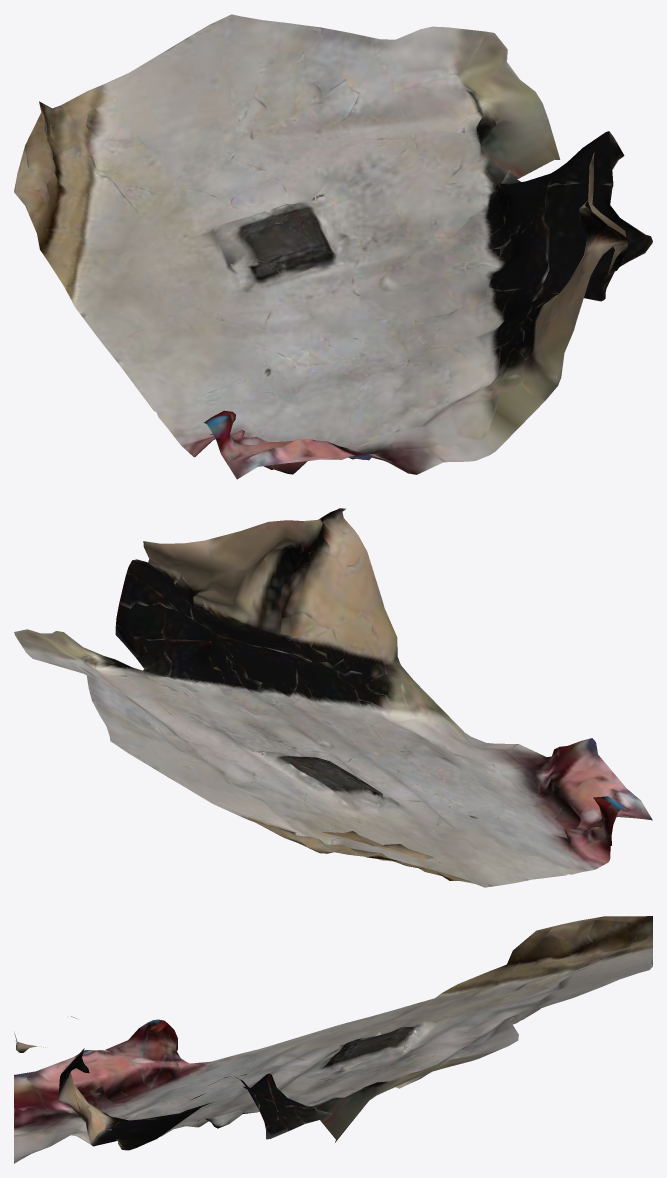
File: hall.glb
The picture shows the model from 3 angles, top to bottom: view 1: azimuth 30°, elevation 25°; view 2: azimuth 150°, elevation 25°; view 3: azimuth 270°, elevation 25°; orthographic projection. The views are drawn at different scales.
Size of the model in its own units: 2.02 by 0.979 by 2.44.
Materials: 1 (1 with a texture image).
